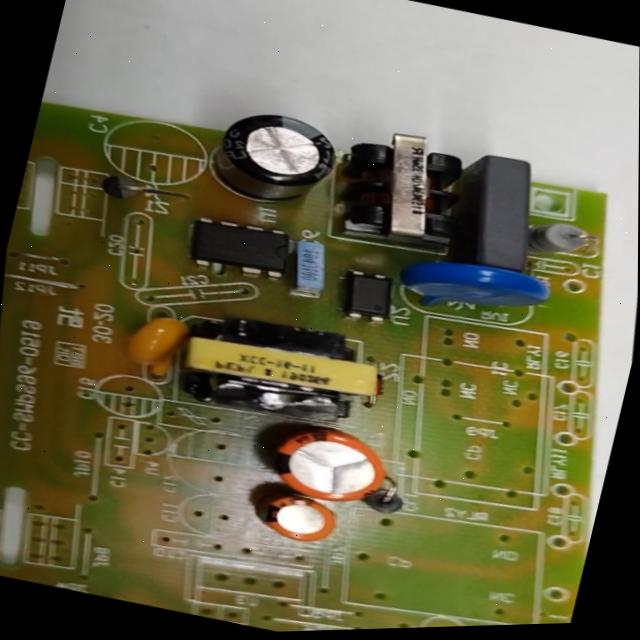Cap1: (265, 417, 394, 516)
Cap2: (262, 490, 338, 550)
Cap3: (203, 94, 348, 218)
MOSFET: (182, 208, 294, 286)
Mov: (399, 239, 558, 332)
Resistor: (523, 213, 603, 265)
Transformer: (171, 300, 385, 437), (337, 118, 476, 248)
